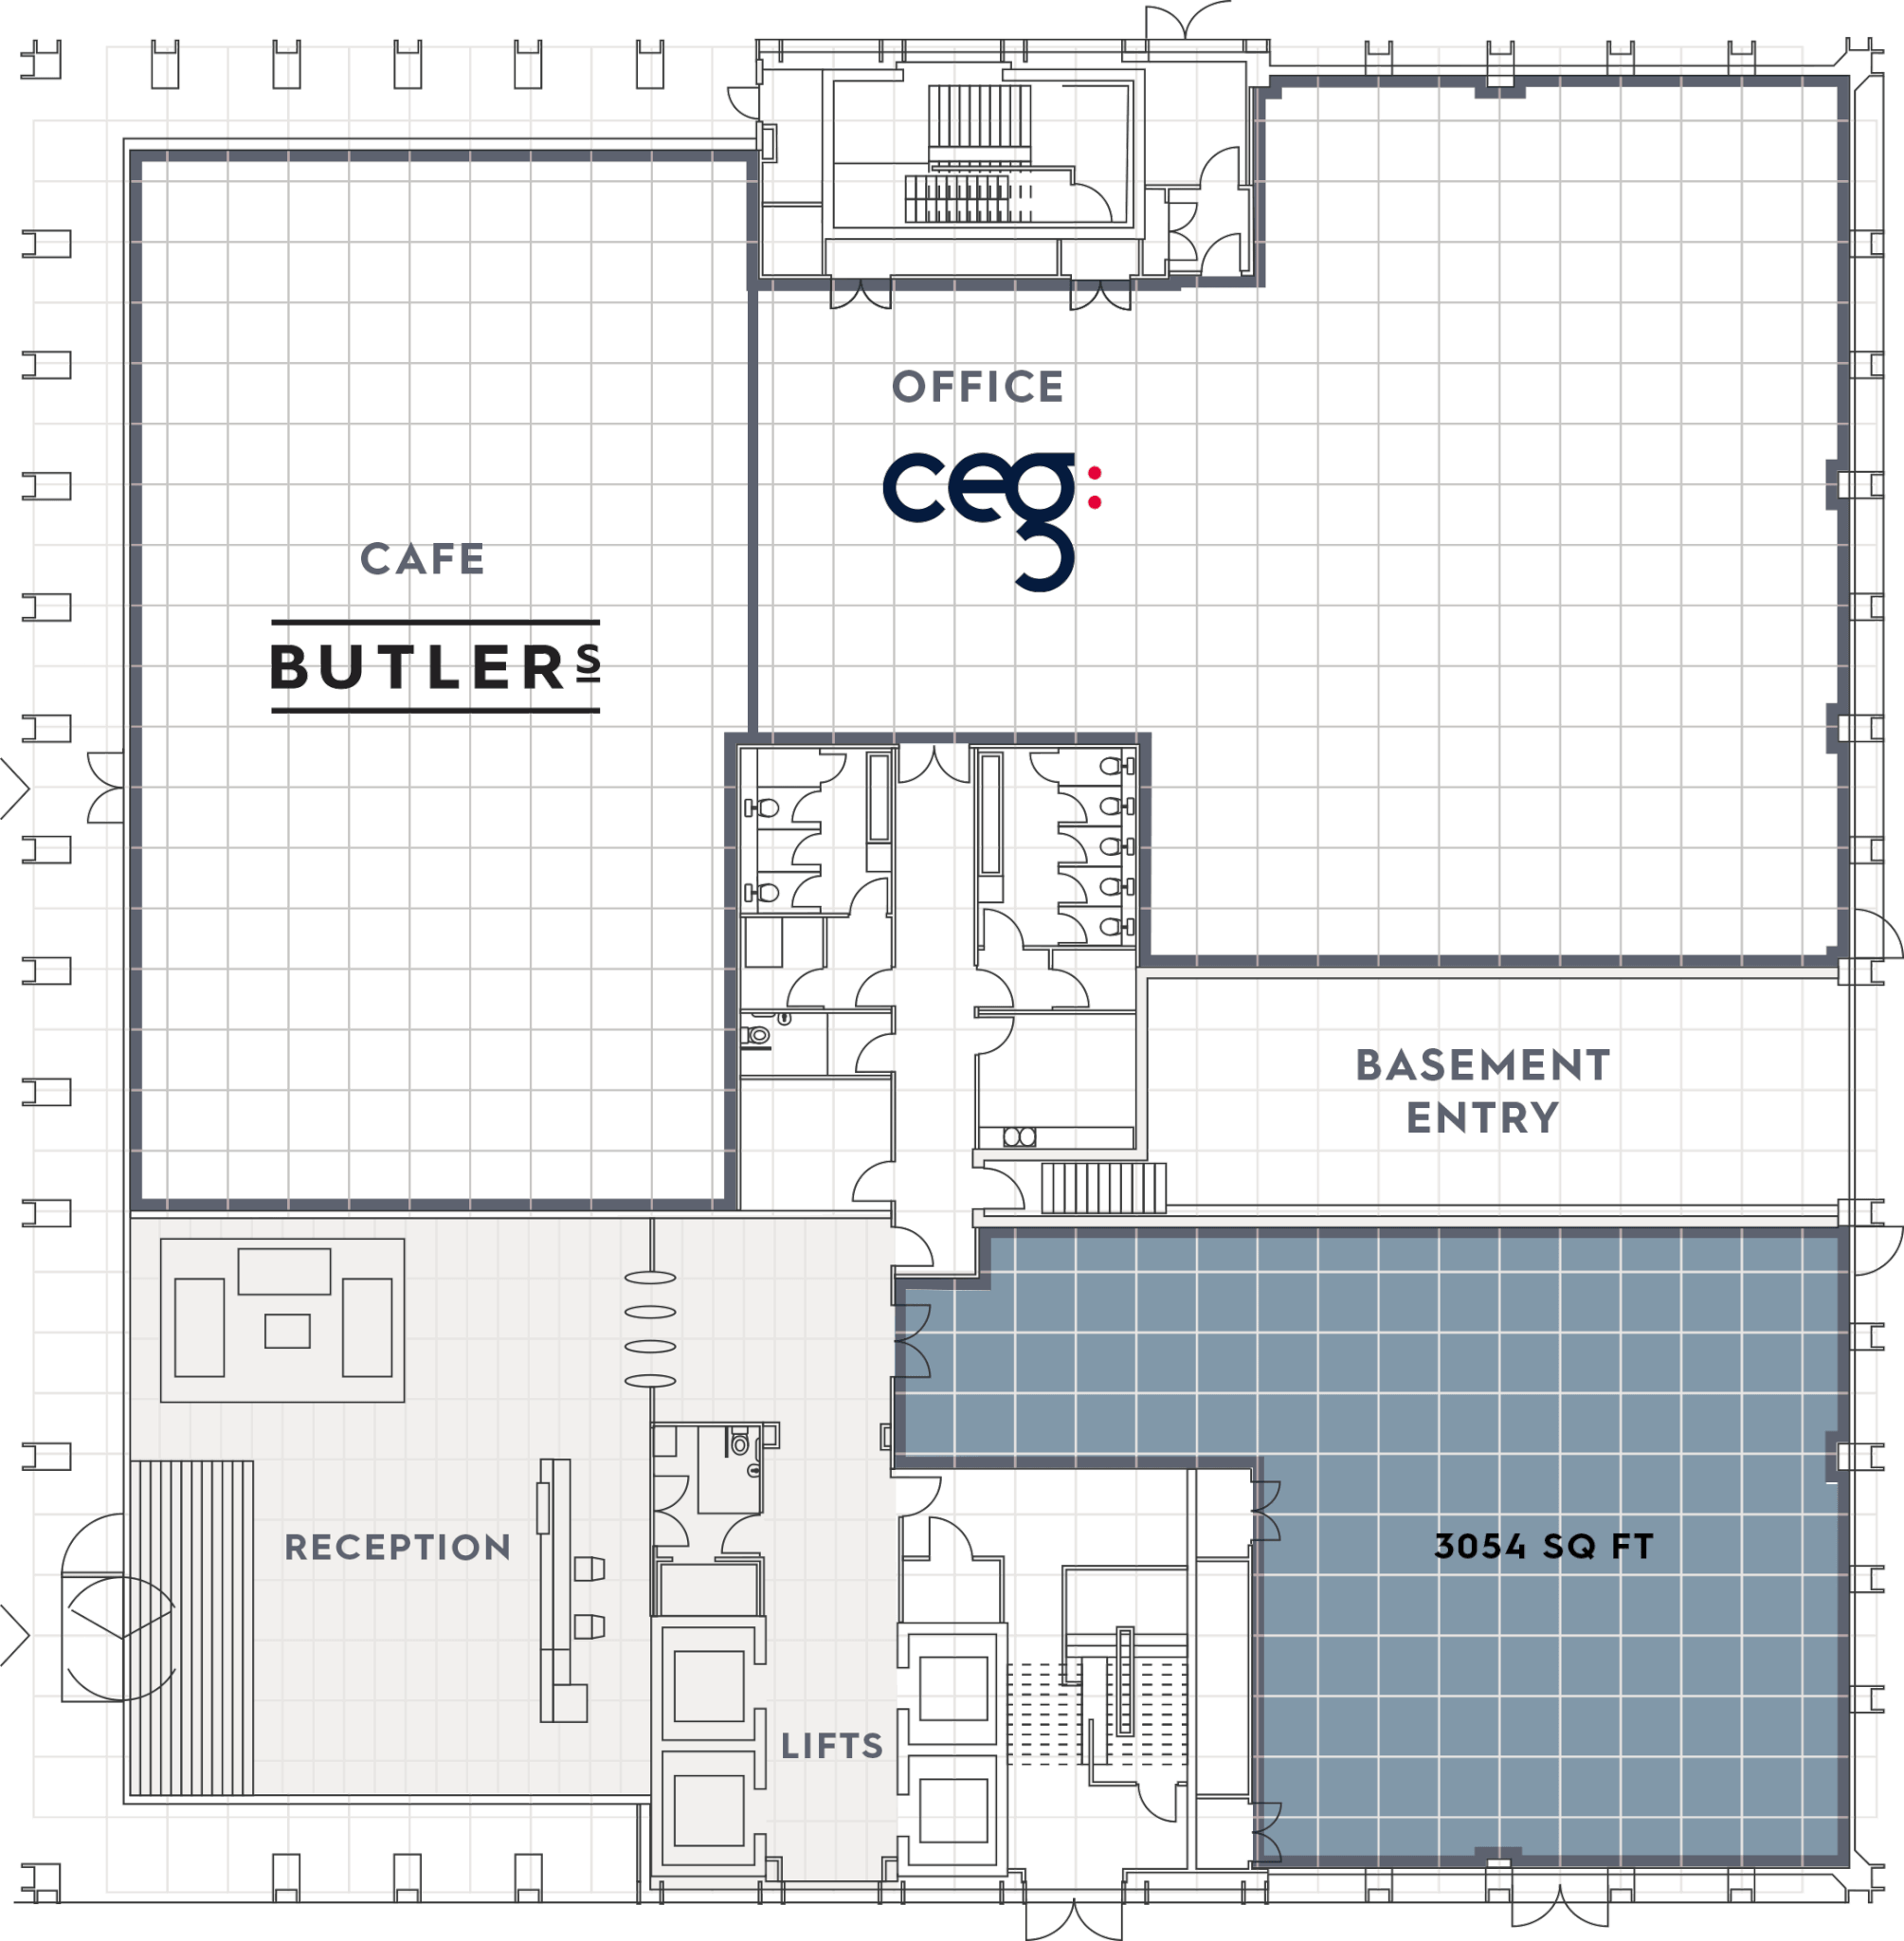door: (1022, 1903, 1125, 1941), (891, 1303, 931, 1381), (650, 1474, 692, 1549), (1163, 197, 1203, 265), (1248, 1477, 1290, 1542), (1065, 274, 1135, 312), (825, 274, 894, 312), (896, 750, 973, 783), (1243, 1798, 1282, 1864), (926, 1514, 978, 1554), (985, 1165, 1029, 1212), (847, 1029, 893, 1073), (1198, 138, 1241, 181), (1051, 963, 1091, 1010), (715, 1512, 757, 1556), (846, 1156, 884, 1203), (982, 905, 1023, 947), (1137, 1786, 1179, 1828), (901, 1474, 942, 1517), (898, 1224, 938, 1268), (1205, 227, 1245, 269), (851, 970, 891, 1008), (717, 82, 755, 122), (847, 875, 889, 912), (1139, 2, 1180, 38), (980, 1013, 1015, 1057), (785, 970, 819, 1008), (983, 970, 1015, 1010), (1060, 790, 1091, 825), (821, 750, 851, 787), (1060, 870, 1090, 907), (788, 874, 818, 909), (788, 834, 818, 865), (1060, 916, 1091, 945), (1060, 834, 1090, 863), (790, 790, 818, 821), (1027, 750, 1053, 780)
